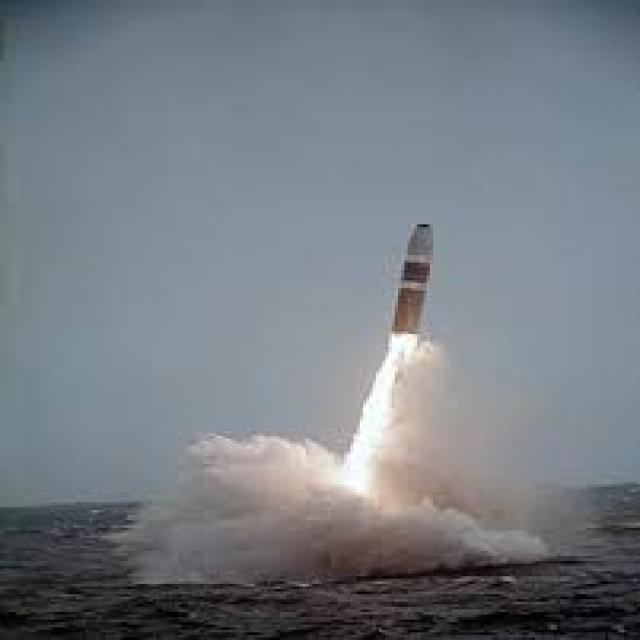Missile: (387, 213, 444, 361)
